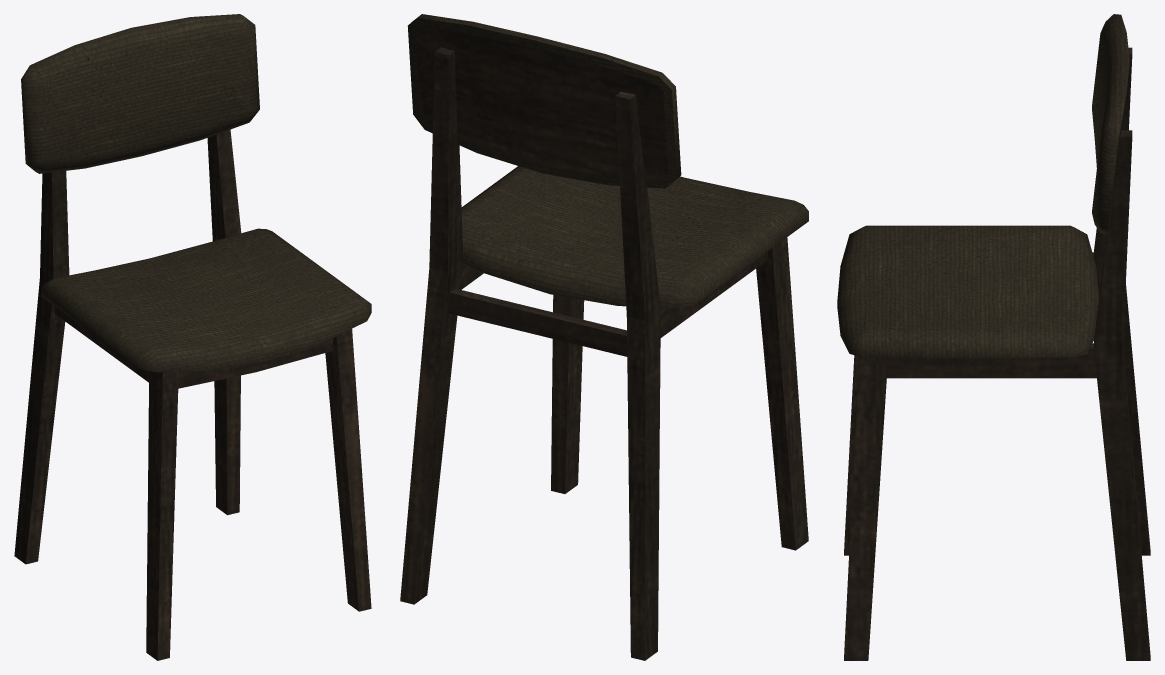
Rendered from chair_mp_4_1.obj.
3 renders of one model, left to right at view 1: azimuth 30°, elevation 25°; view 2: azimuth 150°, elevation 25°; view 3: azimuth 270°, elevation 25°, orthographic. The views are drawn at different scales.
Parts seen in each view (by area): view 1: chair_mp_4_1; view 2: chair_mp_4_1; view 3: chair_mp_4_1.
Part boxes in pixels (x1=…): chair_mp_4_1: x1=14, y1=14, x2=371, y2=660; chair_mp_4_1: x1=400, y1=14, x2=808, y2=660; chair_mp_4_1: x1=837, y1=14, x2=1150, y2=660.
Size of the model in its own units: 0.4763 by 1.01 by 0.5226.
